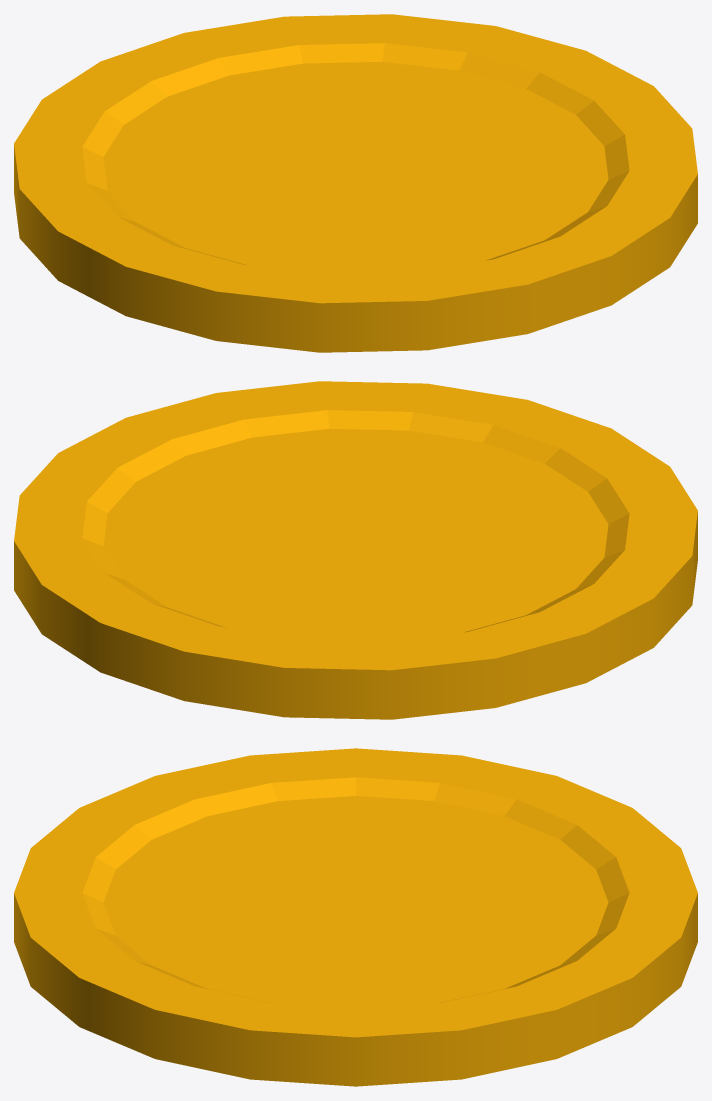
File: Coin.FBX
3 renders of one model, top to bottom at view 1: azimuth 30°, elevation 25°; view 2: azimuth 150°, elevation 25°; view 3: azimuth 270°, elevation 25°, orthographic.
Parts seen in each view (by area): view 1: Cylinder001; view 2: Cylinder001; view 3: Cylinder001.
Boxes of the visible parts, x1,y1,x2,y2 form: Cylinder001: (14, 14, 697, 352); Cylinder001: (14, 381, 697, 719); Cylinder001: (14, 748, 697, 1086).
Bounding box in the file's own units: 49.59 × 3.94 × 49.59.
